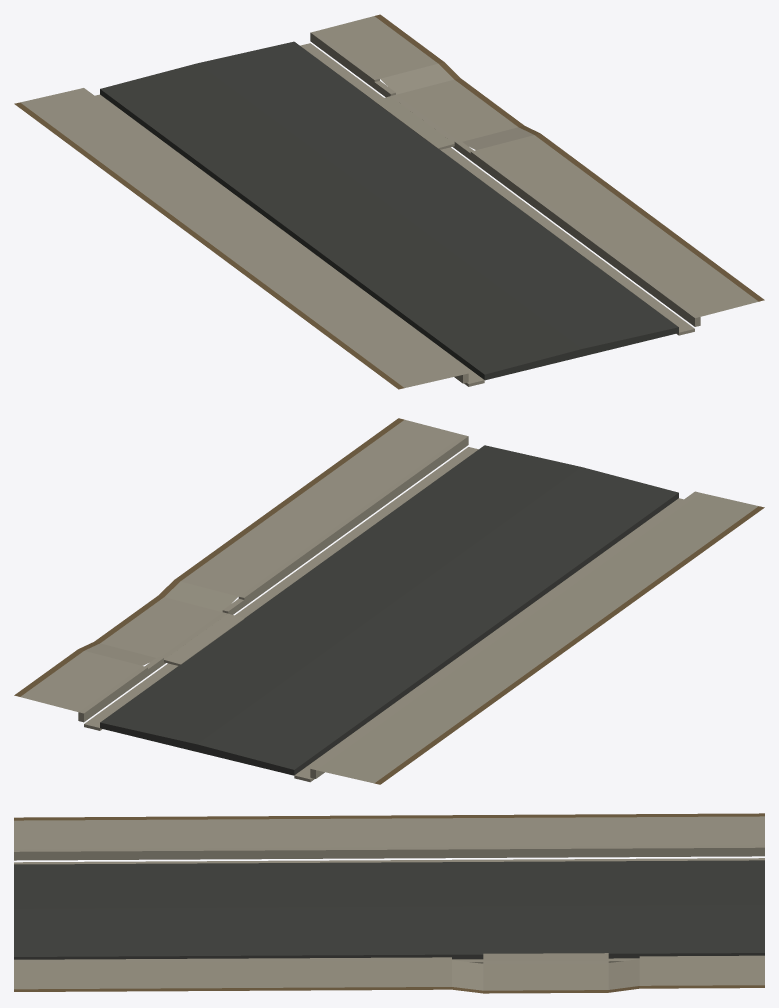
The model's file is street-far.glb.
3 views of the same model, one above another, from view 1: azimuth 30°, elevation 25°; view 2: azimuth 150°, elevation 25°; view 3: azimuth 270°, elevation 25° (orthographic). The views are drawn at different scales.
Visible parts, largest first — view 1: Far road crown, Far sidewalk, Far sidewalk.001, Far sidewalk.005, Far sidewalk.003, Far drain.001, Far kerb.001, Far graded shoulder, Far kerb, Far drain, Far graded shoulder.001, Far sidewalk.004 (+3 smaller); view 2: Far road crown, Far sidewalk, Far sidewalk.001, Far sidewalk.005, Far sidewalk.003, Far drain.001, Far kerb.001, Far graded shoulder, Far kerb, Far drain, Far graded shoulder.001, Far sidewalk.002 (+3 smaller); view 3: Far road crown, Far sidewalk, Far sidewalk.001, Far kerb, Far sidewalk.003, Far sidewalk.005, Far graded shoulder, Far drain, Far graded shoulder.001, Far kerb.001, Far driveway bridge, Far sidewalk.002 (+5 smaller).
Boxes of the visible parts, x1,y1,x2,y2 form: Far road crown: (100, 41, 678, 380); Far sidewalk: (20, 89, 462, 387); Far sidewalk.001: (476, 135, 758, 316); Far sidewalk.005: (316, 16, 437, 78); Far sidewalk.003: (396, 79, 517, 141); Far drain.001: (300, 43, 694, 335); Far kerb.001: (470, 150, 700, 326); Far graded shoulder: (14, 102, 404, 389); Far kerb: (78, 88, 468, 383); Far drain: (95, 94, 484, 386); Far graded shoulder.001: (535, 133, 764, 301); Far sidewalk.004: (380, 63, 453, 94); Far road crown: (100, 445, 678, 775); Far sidewalk: (316, 493, 758, 783); Far sidewalk.001: (180, 420, 462, 596); Far sidewalk.005: (20, 651, 141, 711); Far sidewalk.003: (100, 597, 222, 657); Far drain.001: (84, 447, 478, 730); Far kerb.001: (238, 435, 468, 606); Far graded shoulder: (374, 506, 764, 784); Far kerb: (310, 491, 700, 778); Far drain: (294, 498, 683, 782); Far graded shoulder.001: (174, 418, 404, 581); Far sidewalk.002: (165, 581, 237, 611); Far road crown: (14, 860, 764, 959); Far sidewalk: (14, 816, 764, 849); Far sidewalk.001: (14, 960, 451, 989); Far kerb: (14, 845, 764, 860); Far sidewalk.003: (483, 963, 608, 990); Far sidewalk.005: (639, 958, 764, 985); Far graded shoulder: (14, 813, 764, 820); Far drain: (14, 858, 764, 864); Far graded shoulder.001: (14, 987, 451, 991); Far kerb.001: (14, 957, 451, 962); Far driveway bridge: (483, 953, 608, 961); Far sidewalk.002: (452, 960, 483, 990).
Size of the model in its own units: 13.2 by 0.6438 by 24.
